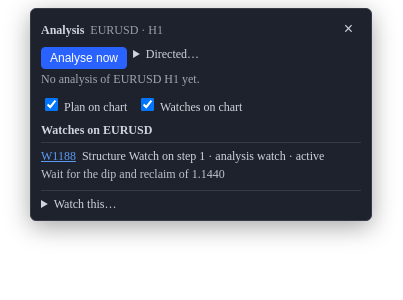
it: ChartAnalysisComponent › analyses on demand through the existing endpoint and never files a signal from the chart
Click the button "Analyse now".
click(84, 58)  # box [41,47,127,69]
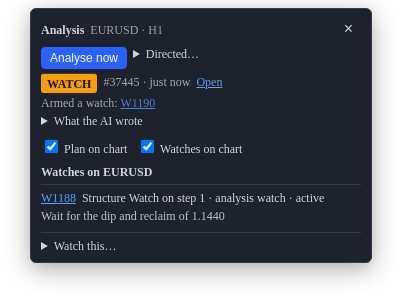
Expected: the text "WATCH" is shown, [41,72,98,92]
Expected: the text "W1190" is shown, [120,96,155,110]
